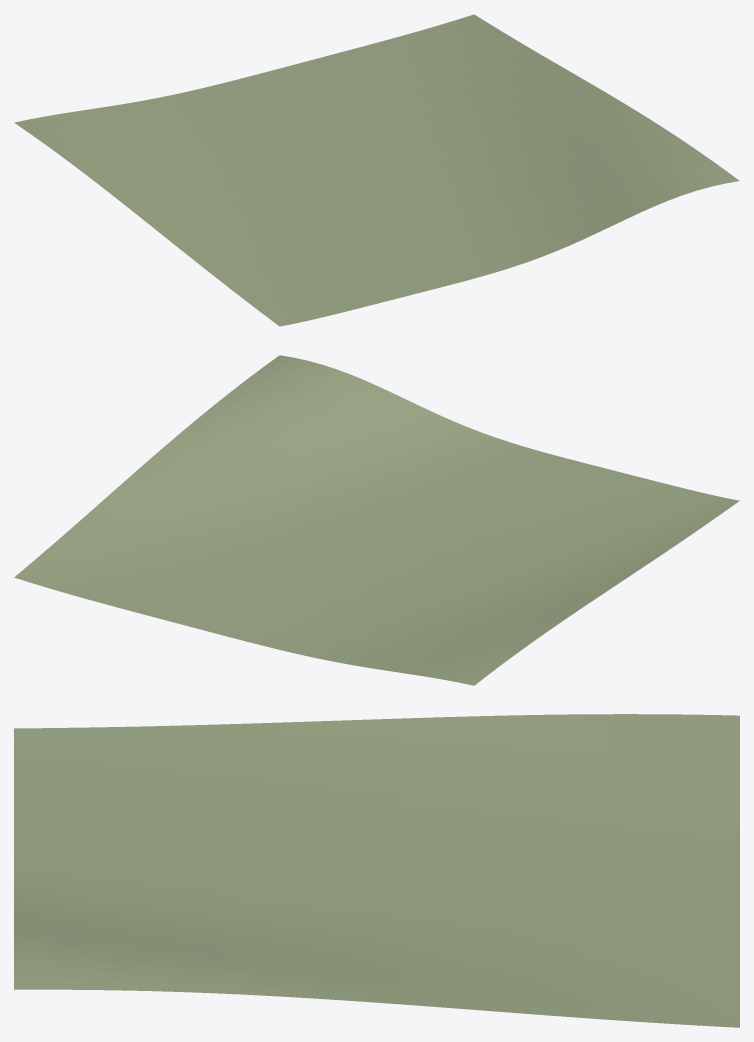
The model's file is desert-6-2.glb.
3 views of the same model, one above another, from view 1: azimuth 30°, elevation 25°; view 2: azimuth 150°, elevation 25°; view 3: azimuth 270°, elevation 25° (orthographic). The views are drawn at different scales.
Parts seen in each view (by area): view 1: desert-6-2; view 2: desert-6-2; view 3: desert-6-2.
Boxes of the visible parts, bbox=[...] form: desert-6-2: bbox=[14, 14, 739, 326]; desert-6-2: bbox=[14, 355, 739, 685]; desert-6-2: bbox=[14, 714, 739, 1027].
Bounding box in the file's own units: 512 × 39.03 × 512.
